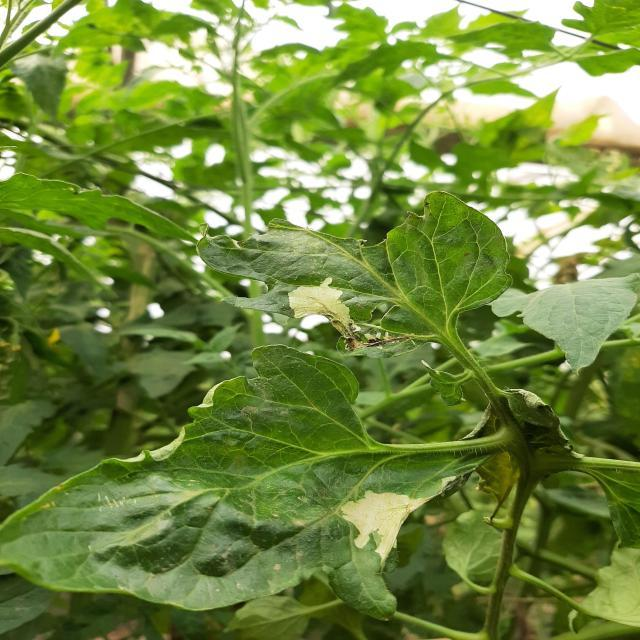Tuta absoluta: (329, 461, 431, 566), (285, 275, 355, 345)
